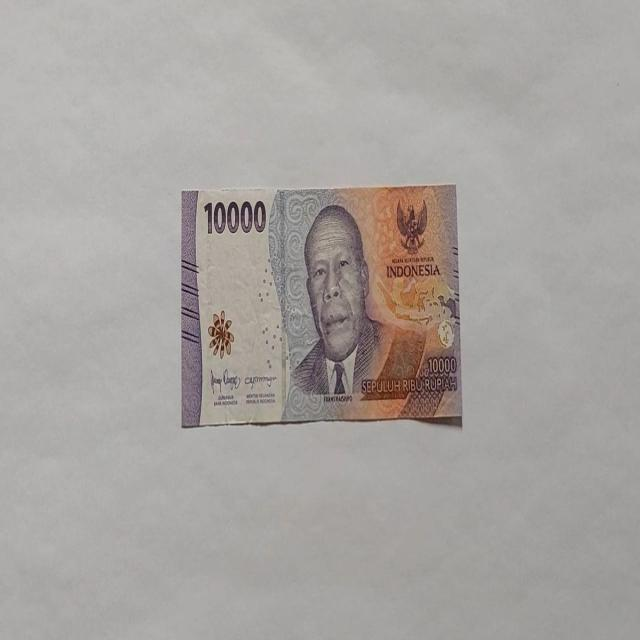Kertas: (180, 183, 462, 429), (203, 198, 267, 236)
